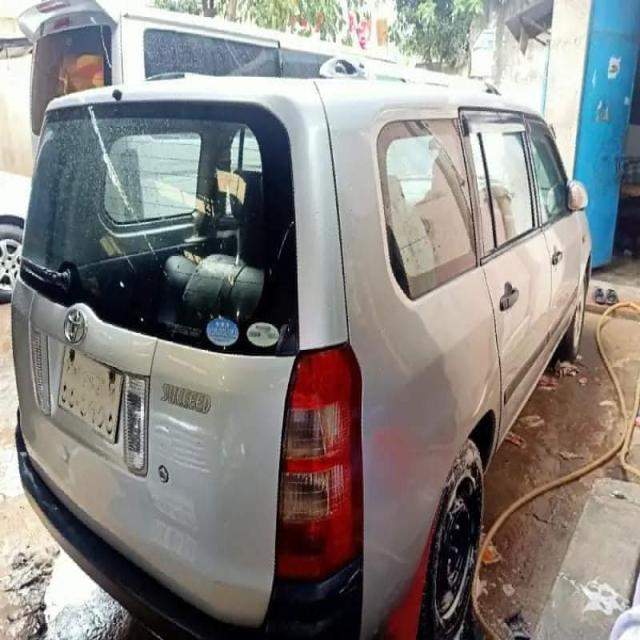silver: (6, 70, 640, 616)
